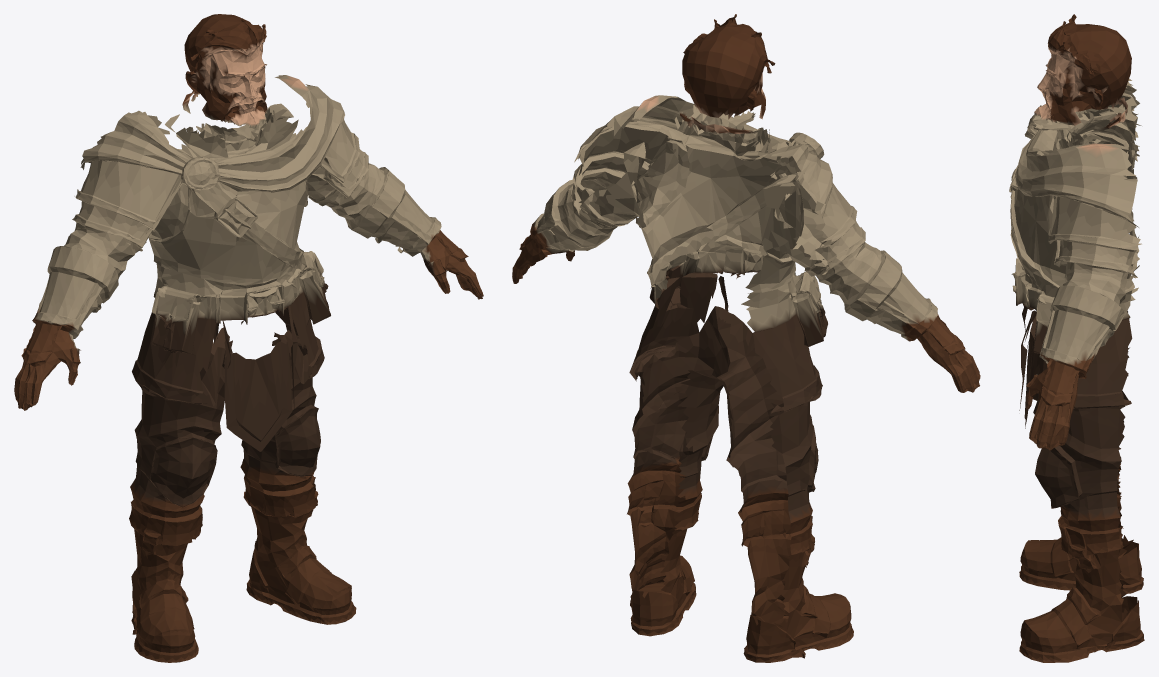
Rendered from koerper.glb.
The picture shows the model from 3 angles, left to right: view 1: azimuth 30°, elevation 25°; view 2: azimuth 150°, elevation 25°; view 3: azimuth 270°, elevation 25°; orthographic projection. The views are drawn at different scales.
Parts seen in each view (by area): view 1: koerper; view 2: koerper; view 3: koerper.
Part boxes in pixels (x1=…): koerper: x1=14, y1=14, x2=483, y2=662; koerper: x1=512, y1=14, x2=980, y2=662; koerper: x1=1009, y1=14, x2=1144, y2=662.
Bounding box in the file's own units: 1.42 × 1.8 × 0.3712.
